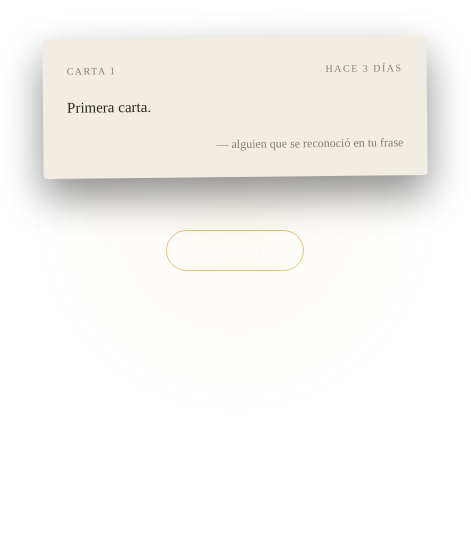
Test case: Answering a letter › “Responder” opens a new sheet of paper, numbered after the last letter
Click the button "Responder" at (235, 251), box [166,230,304,271]
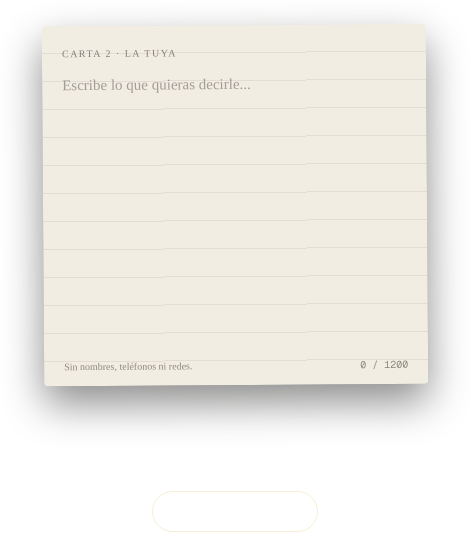
expect the text "Carta 2 · La tuya" is shown: met, box [62,47,177,59]
